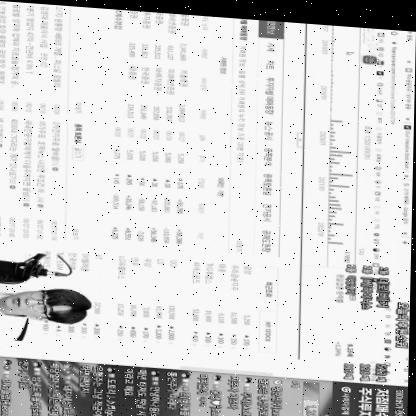streamer: (0, 252, 96, 361)
